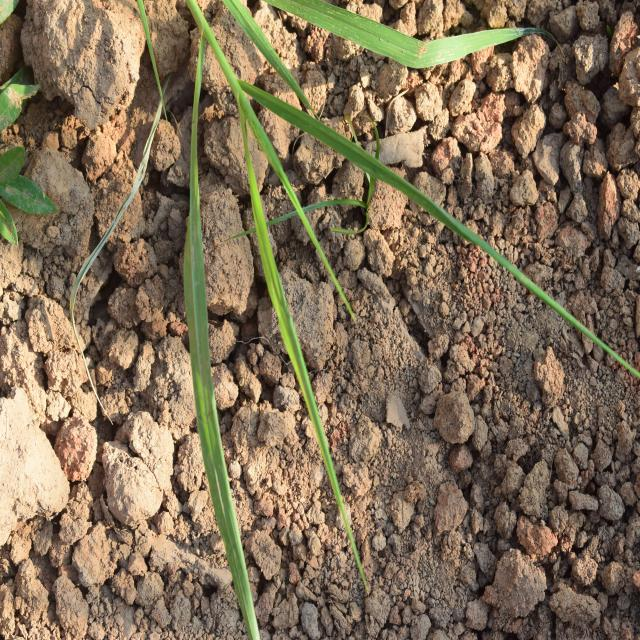green_foxtail: (184, 0, 468, 470)
